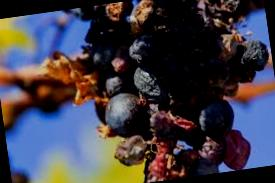Grape Rotten: (31, 0, 275, 183)
